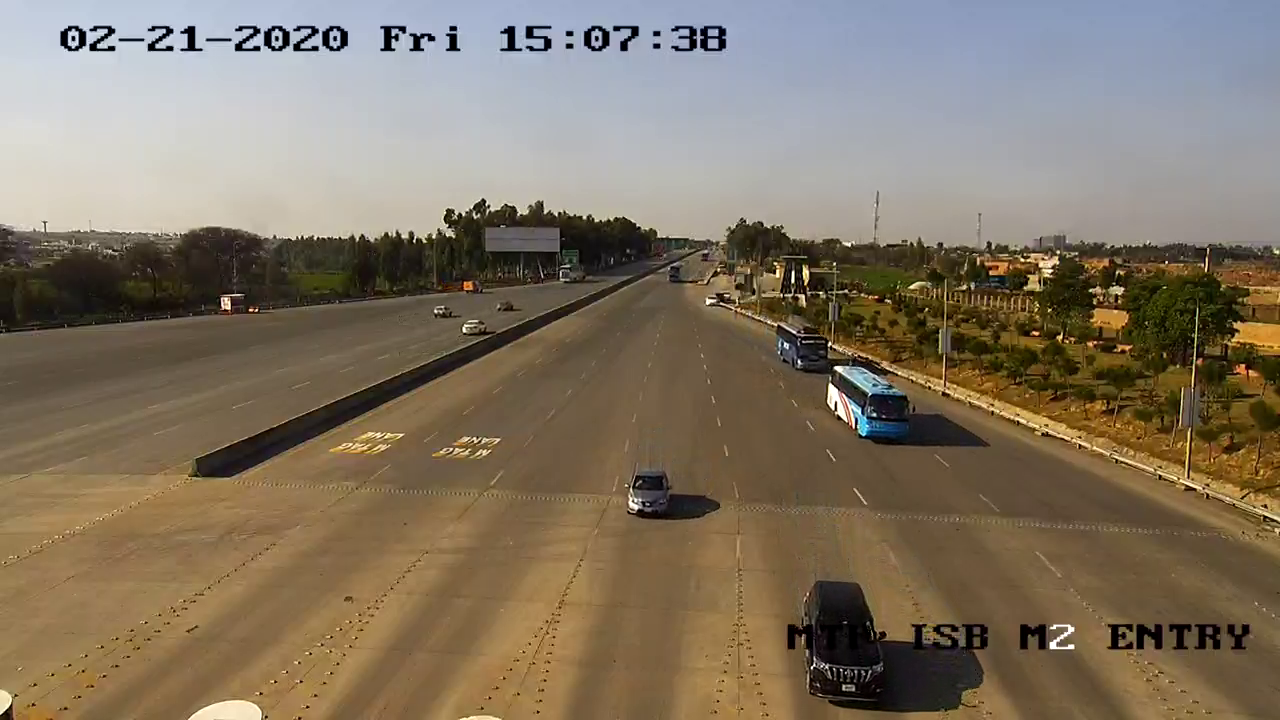f1: (620, 460, 683, 526)
f3: (818, 358, 926, 448)
f4: (768, 314, 832, 380)
